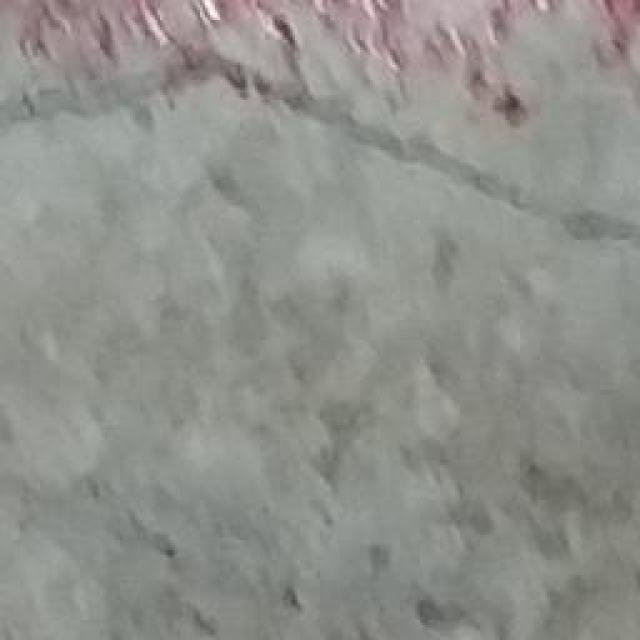Transverse: (0, 45, 640, 251)
